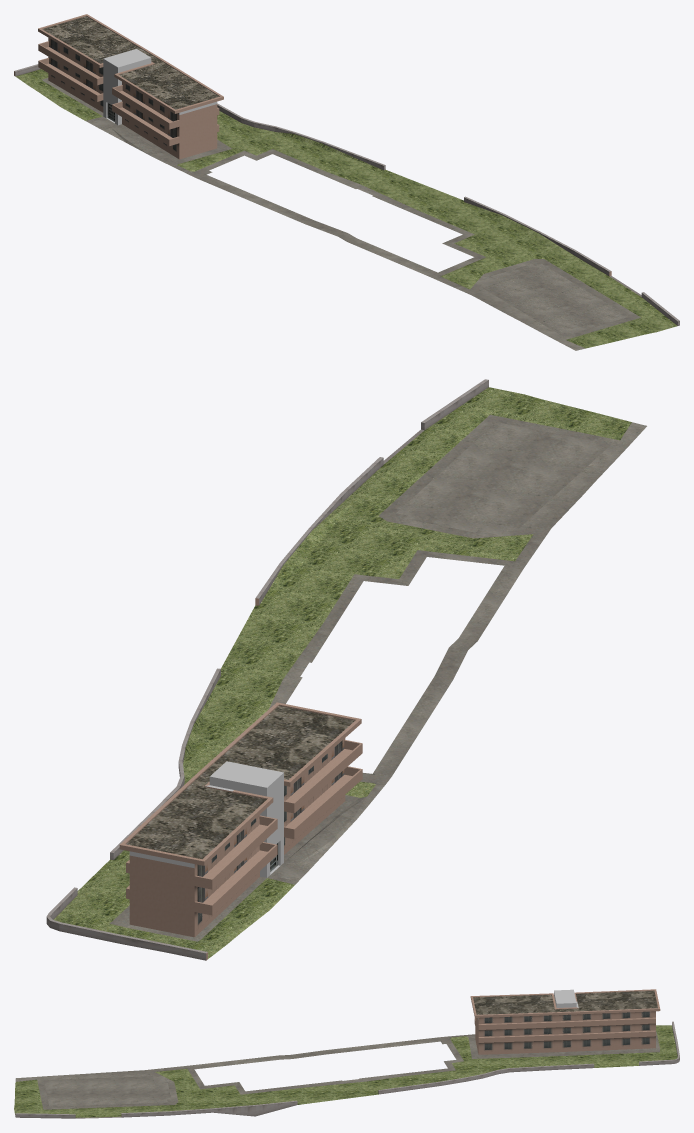
Rendered from gaz13_law.obj.
The picture shows the model from 3 angles, top to bottom: view 1: azimuth 30°, elevation 25°; view 2: azimuth 150°, elevation 25°; view 3: azimuth 270°, elevation 25°; orthographic projection. The views are drawn at different scales.
Parts seen in each view (by area): view 1: gaz13_law; view 2: gaz13_law; view 3: gaz13_law.
Boxes of the visible parts, x1,y1,x2,y2 form: gaz13_law: [14, 14, 679, 350]; gaz13_law: [46, 379, 646, 960]; gaz13_law: [14, 989, 679, 1118].
Bounding box in the file's own units: 45.26 × 11.79 × 136.
